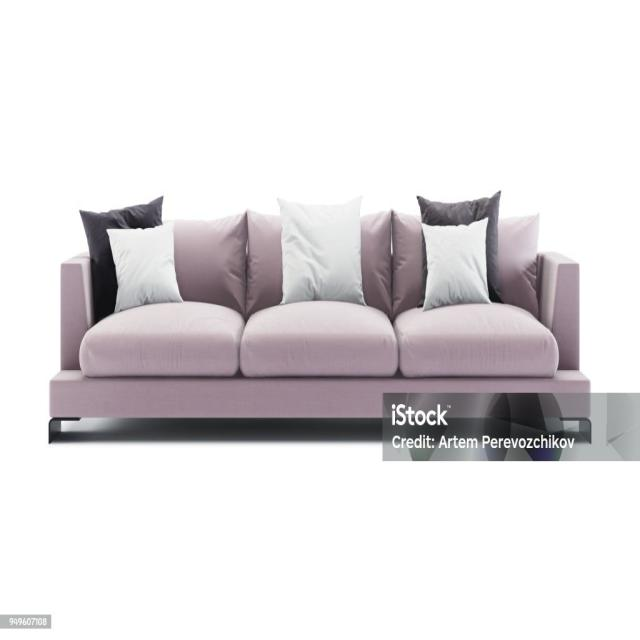back_cushion: (86, 199, 492, 318), (498, 217, 539, 315)
base: (49, 369, 589, 421)
left_arm: (539, 252, 579, 369)
legs: (574, 418, 590, 443), (49, 418, 63, 443), (561, 419, 571, 425)
right_arm: (61, 254, 94, 369)
seat_cushion: (80, 302, 559, 377)
stallion-sofa: (0, 2, 639, 639)
